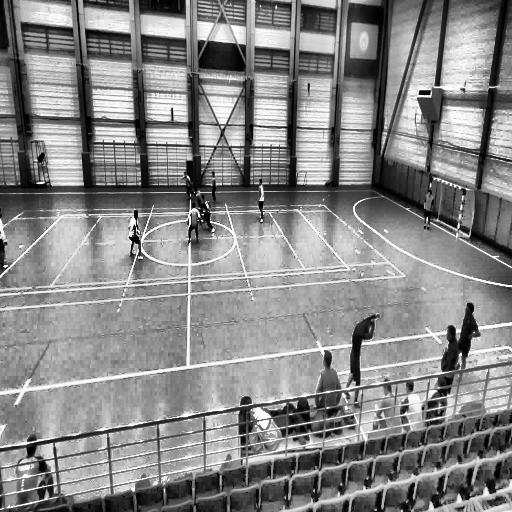player: (346, 313, 378, 405), (0, 205, 11, 271), (129, 209, 143, 259), (200, 193, 215, 233), (188, 200, 200, 245), (423, 188, 433, 230), (193, 185, 204, 223), (185, 168, 195, 204), (258, 178, 265, 225), (211, 171, 217, 204)
